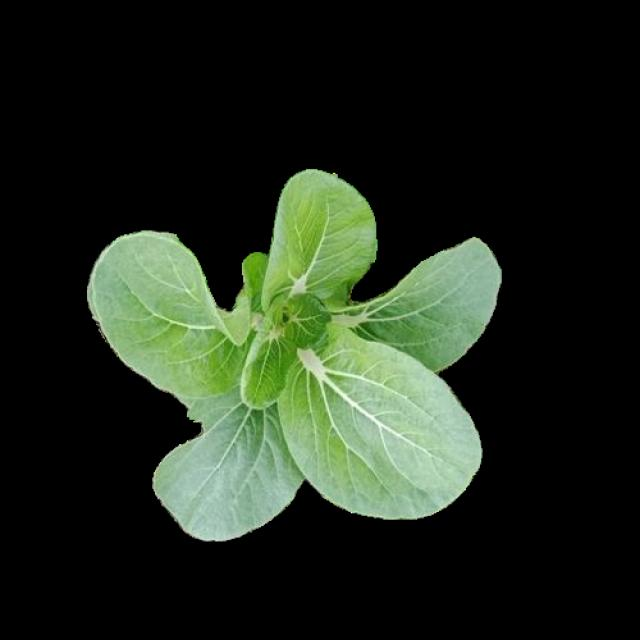healthy: (90, 168, 498, 536)
mature: (92, 170, 501, 539)
